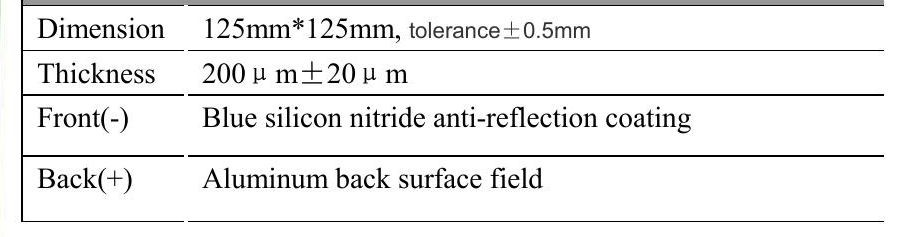table: (14, 1, 893, 229)
table column: (193, 4, 880, 223), (30, 3, 181, 220)
table row: (25, 162, 886, 217), (25, 98, 886, 152), (25, 54, 885, 92), (25, 9, 883, 47)
